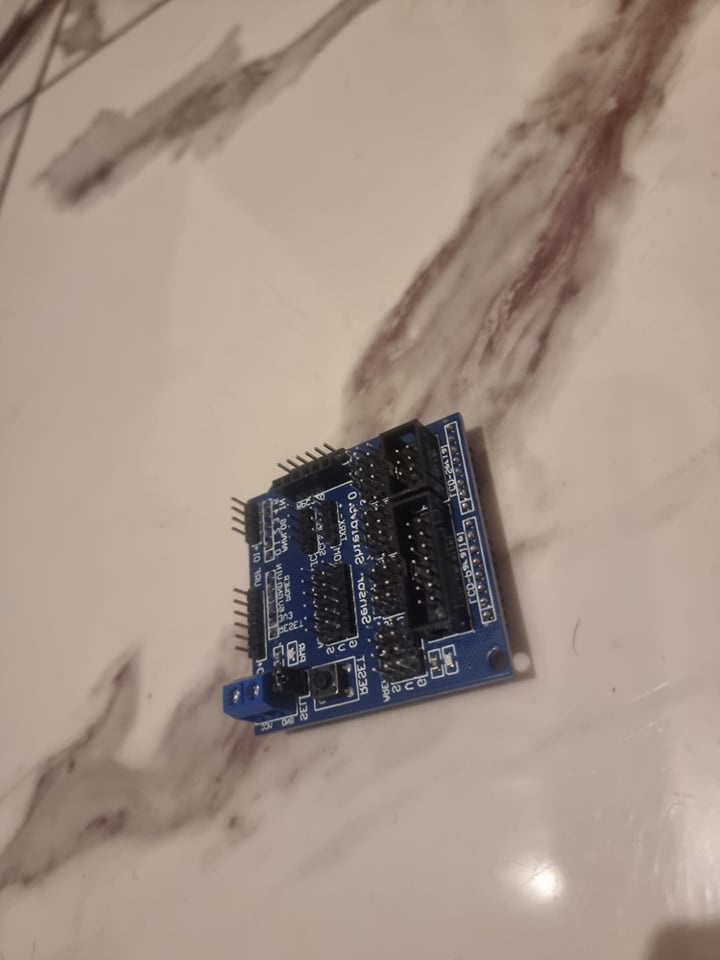5V EXPANSION: (219, 410, 518, 739)
